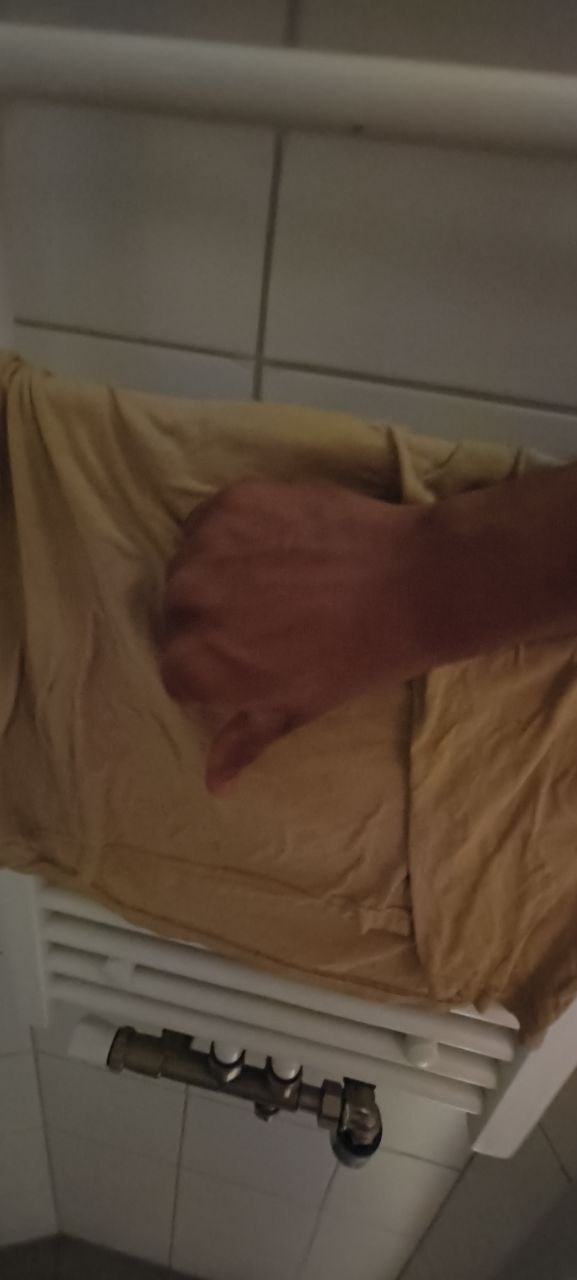Thumbs down: (127, 406, 437, 879)
